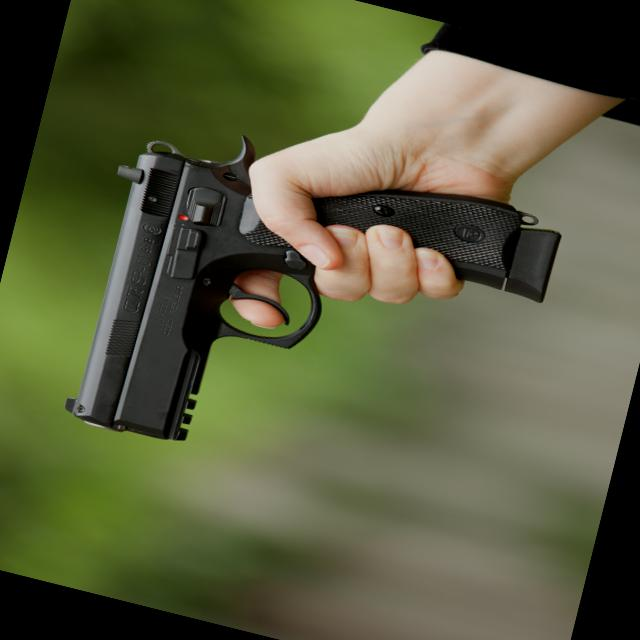handgun: (53, 107, 570, 530)
